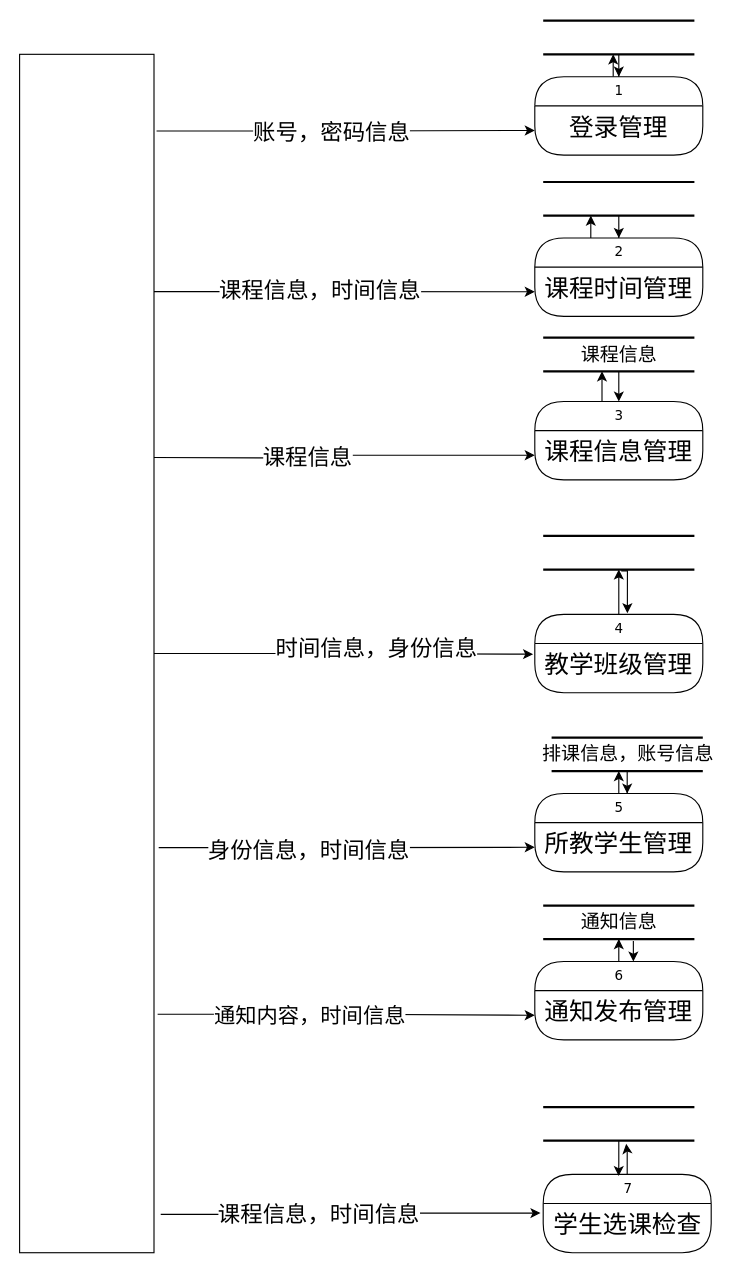
The diagram is 732 pixels wide and 1275 high, and some of its shapes have lost their labels. The centre of each missing label's shape, as x and y in pixels:
"排课信息" goes at pixel 618 1123.
"教学班信息" goes at pixel 618 552.
"教师" goes at pixel 86 653.
"账号信息" goes at pixel 618 37.
"选课信息" goes at pixel 618 198.
